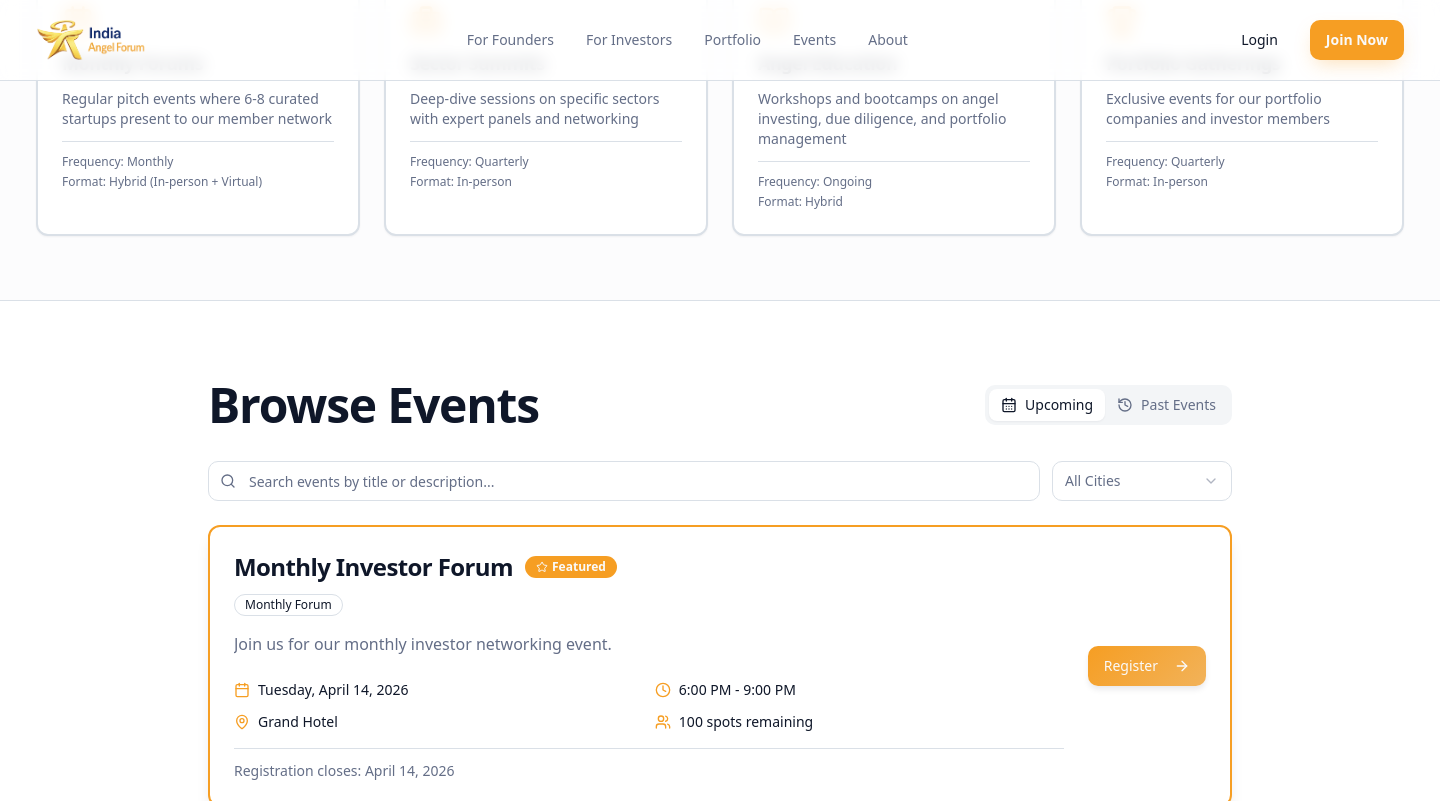
Test: Events Page › Empty States › should show empty state when no past events
(page scrolled)
Expected: the heading "Monthly Investor Forum" is shown, [234,551,513,583]
Click the tab "Past Events" at (1167, 405), box [1105,389,1228,421]
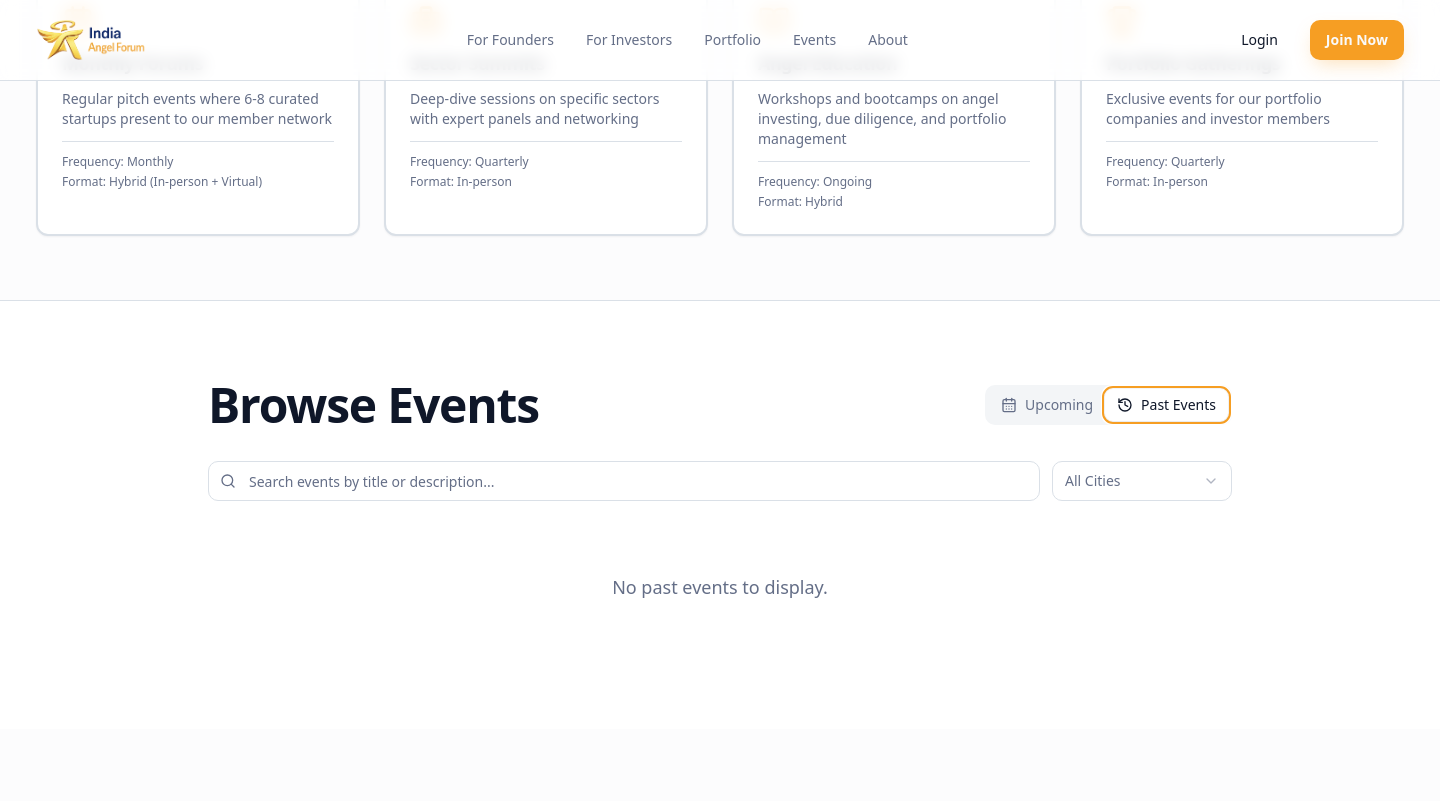
Now the text "No past events to display." is shown, box [612,575,828,599]
